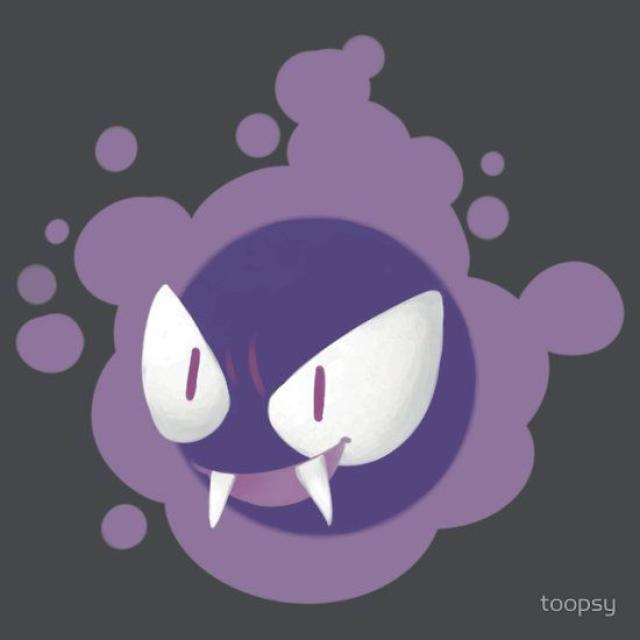Gastly: (62, 150, 556, 600)
